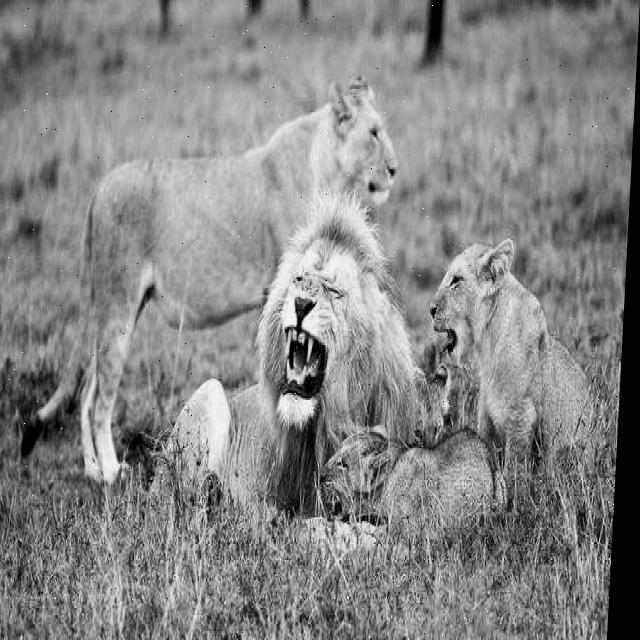Lion: (422, 228, 628, 450), (236, 196, 399, 468)
